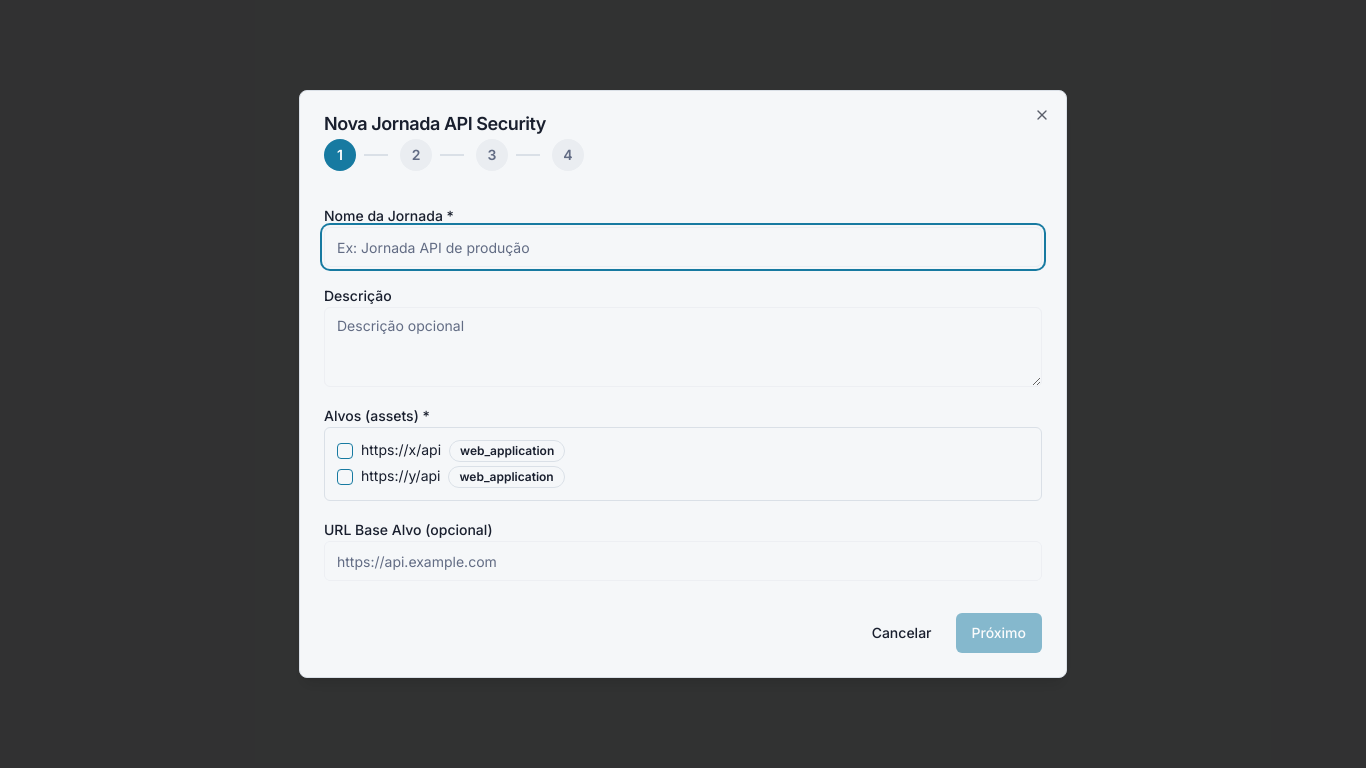
Test case: UI-06 — ApiSecurityWizard 4-step Dialog › step 1 → step 2: "Próximo" enabled and advances after name + asset selected
The width and height of the screenshot is (1366, 768).
Type "Teste Journey" into the field with test id "input-name" at [683, 247], box [324,227,1042,267]
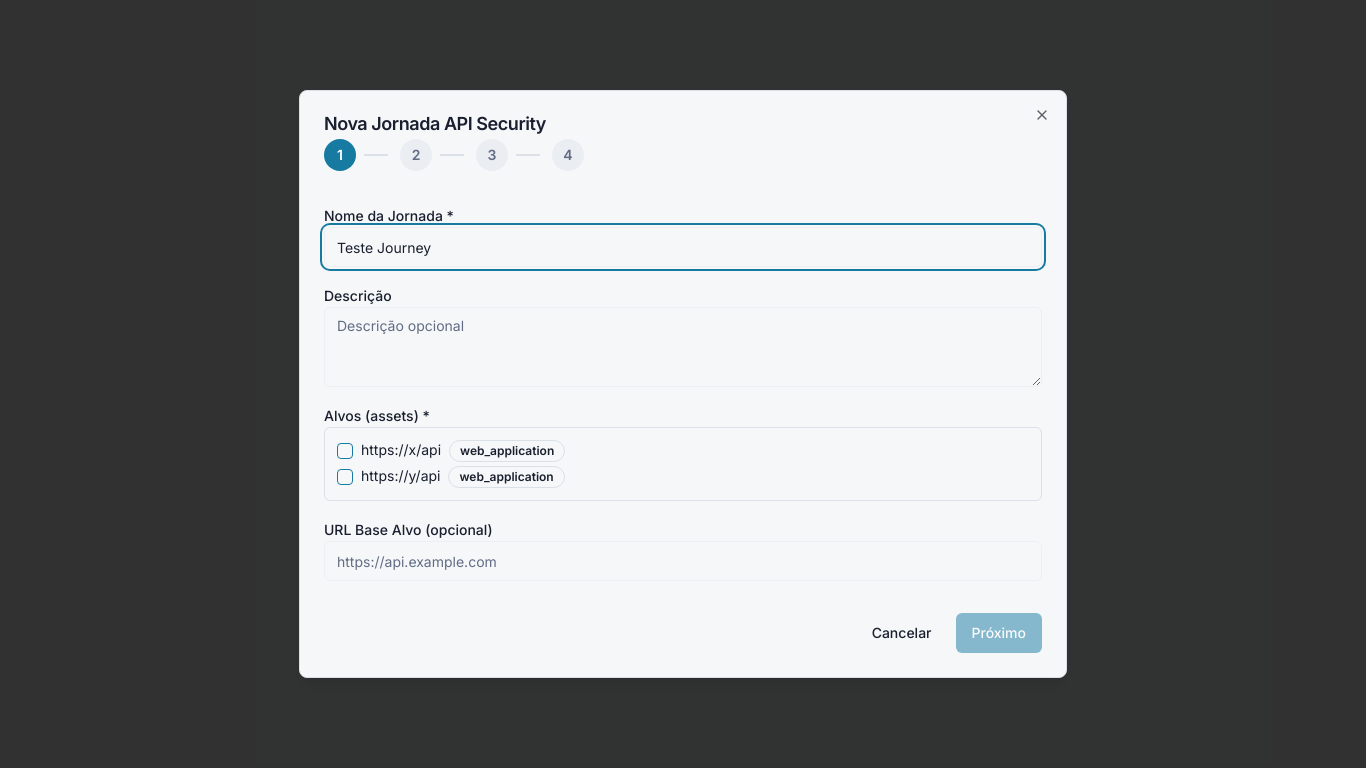
Click the checkbox with test id "asset-checkbox-a1" at [345, 451], box [337,443,353,459]
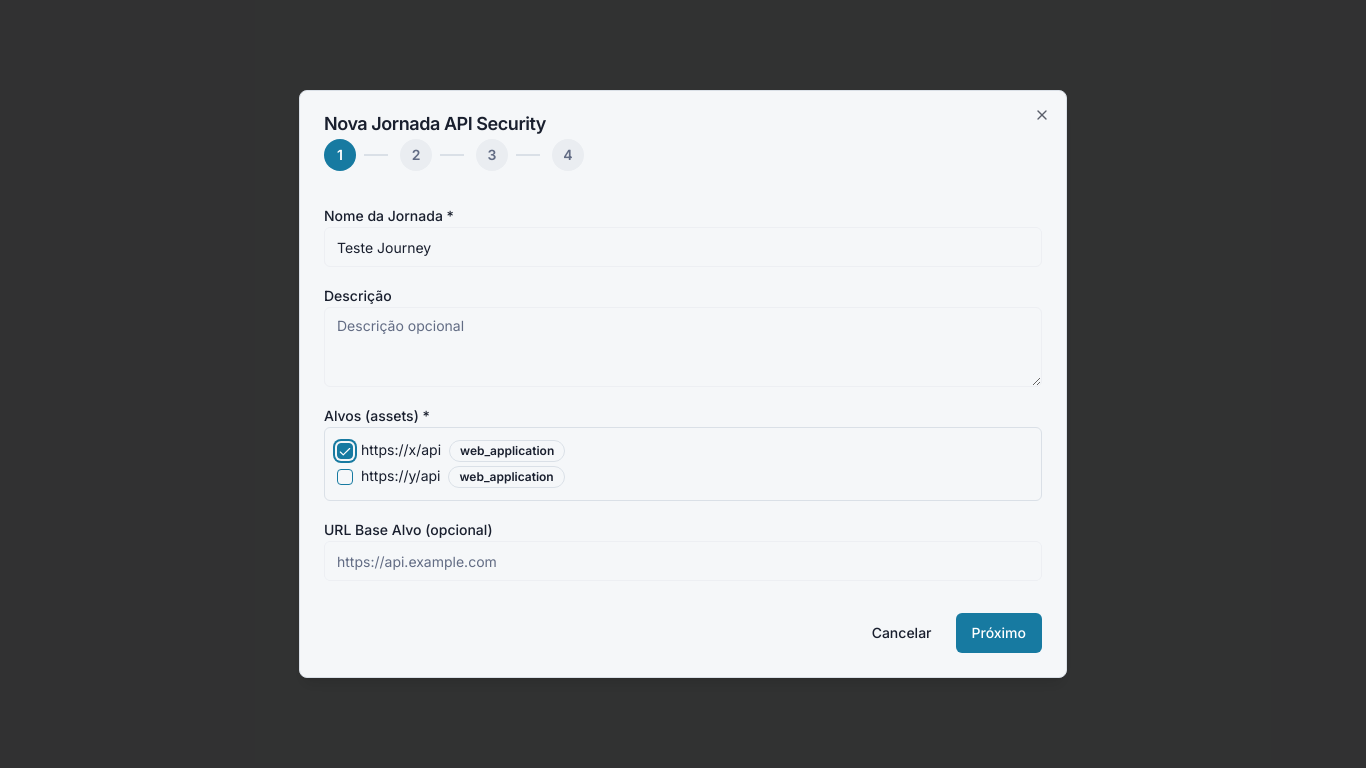
Result: the button with test id "button-next" is enabled
Click the button with test id "button-next" at [999, 633], box [956,613,1042,653]
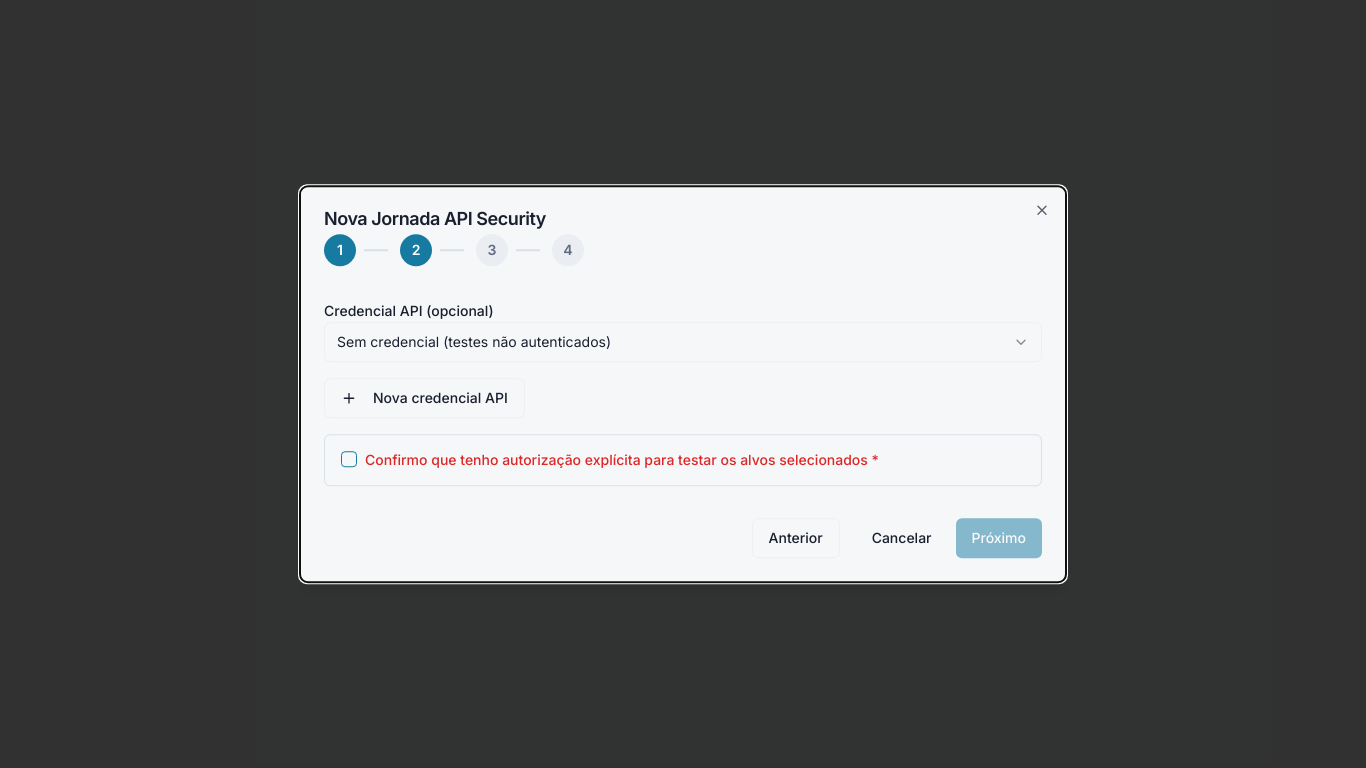
Result: the element with test id "wizard-step-2" is shown at [324,298,1042,486]
